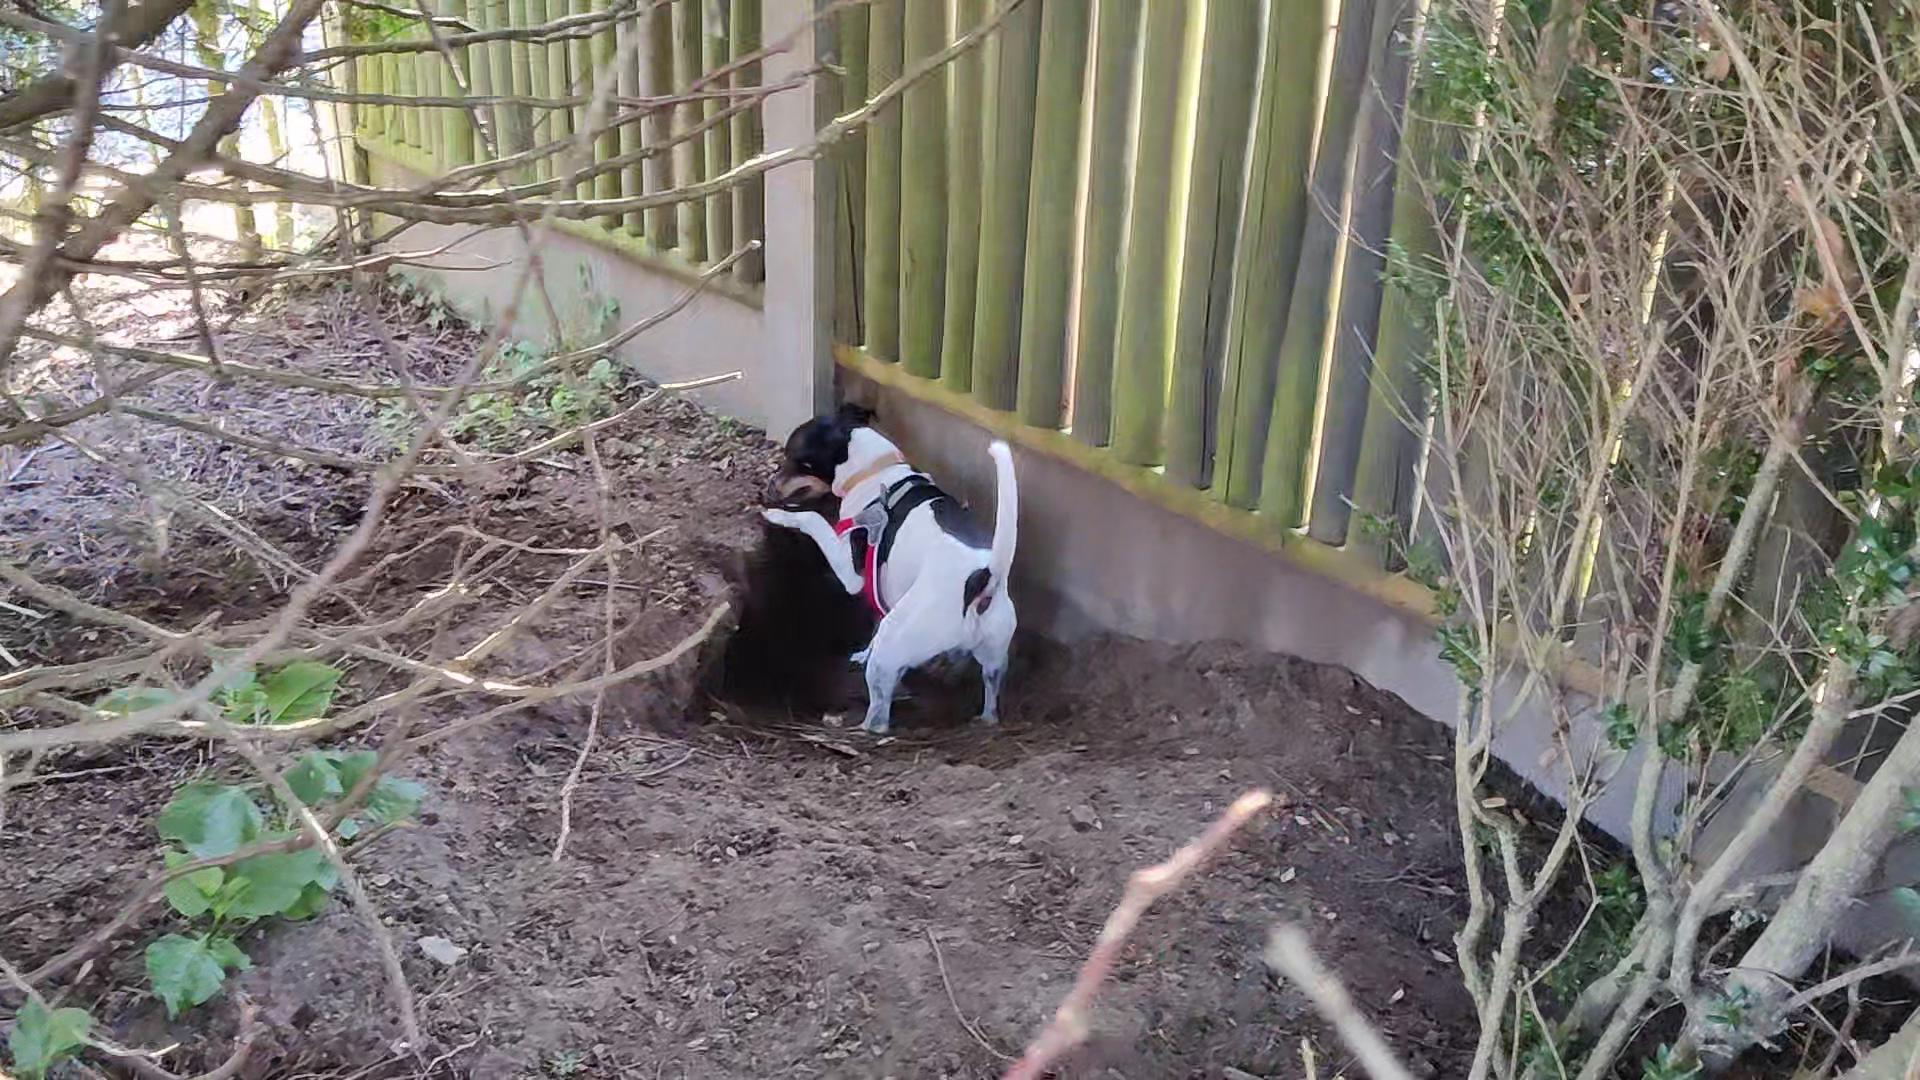Dog: (758, 392, 1035, 736)
